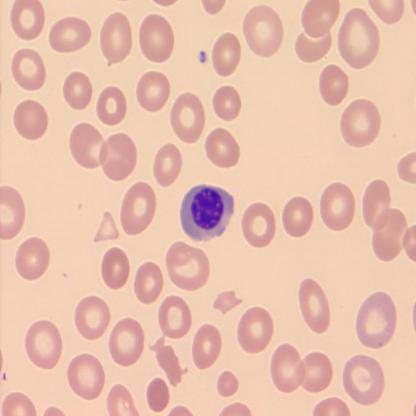NRC: (178, 182, 236, 242)
